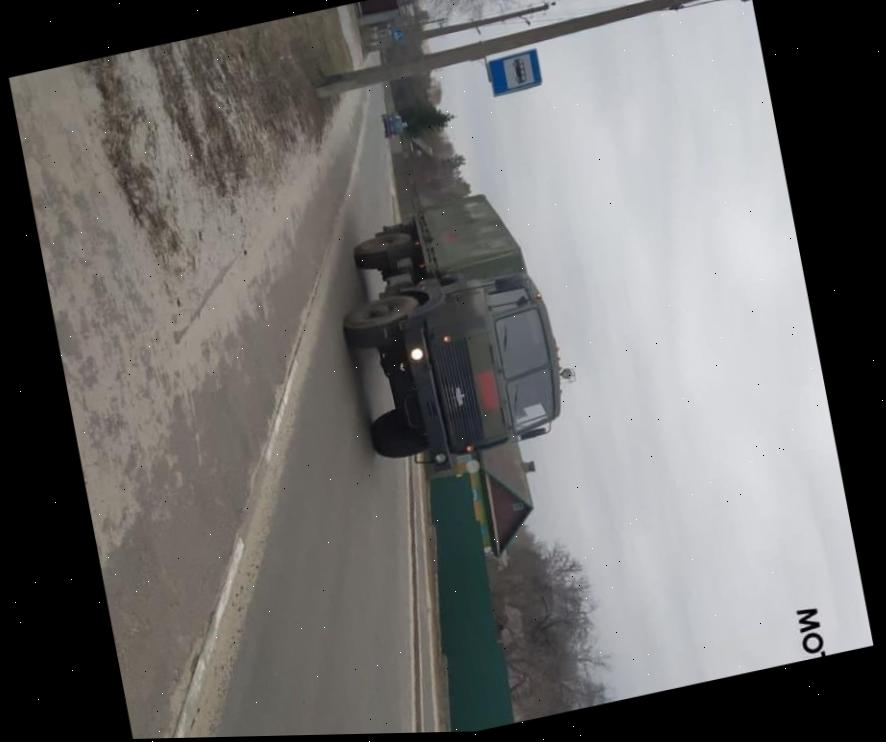truck: (315, 171, 580, 489)
